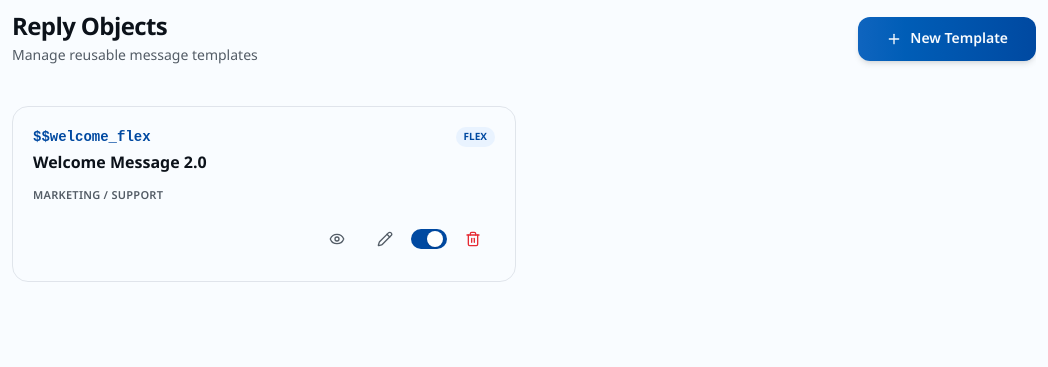
Test: ReplyObjectsClient กริด JSK › toggle สำเร็จ → มี success banner ไม่ใช่แค่ reload เงียบ
Expected: the text "$$welcome_flex" is shown, [33,129,151,145]
Click the switch named "ปิดใช้งาน welcome_flex" at (429, 239), box [411,229,447,249]
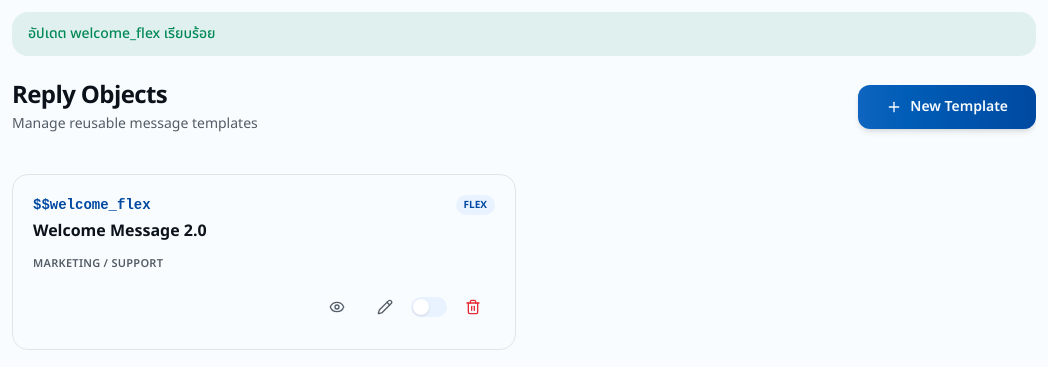
Now the message shows "เรียบร้อย", box [28,23,216,44]
